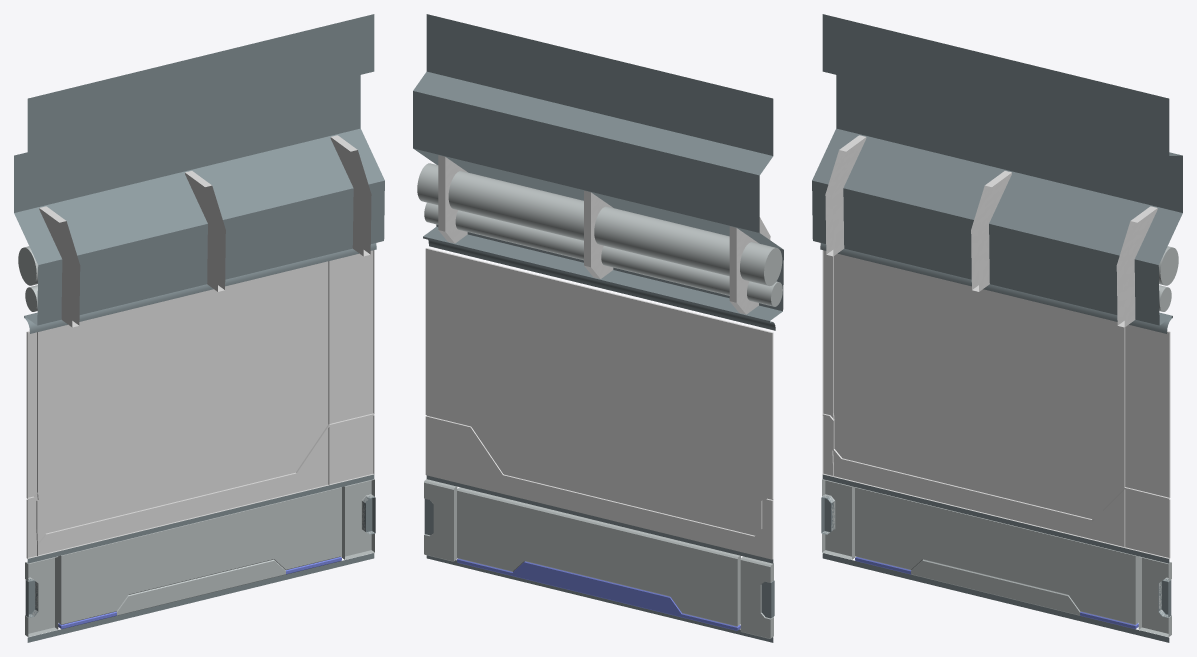
The model's file is WALL-03.fbx.
3 renders of one model, left to right at view 1: azimuth 30°, elevation 25°; view 2: azimuth 150°, elevation 25°; view 3: azimuth 330°, elevation 25°, orthographic.
Visible parts, largest first — view 1: Cube.008; view 2: Cube.008; view 3: Cube.008.
Part boxes in pixels (x1,y1,x2,y2): Cube.008: (14,14,384,642); Cube.008: (413,14,783,642); Cube.008: (812,14,1182,642).
Bounding box in the file's own units: 4 × 6 × 0.6967.
